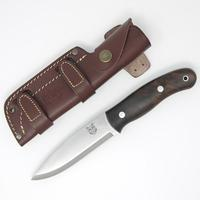knife: (28, 63, 195, 185)
